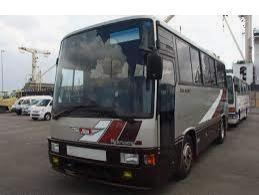bus: (49, 16, 230, 190)
